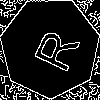R: (25, 22, 81, 75)
